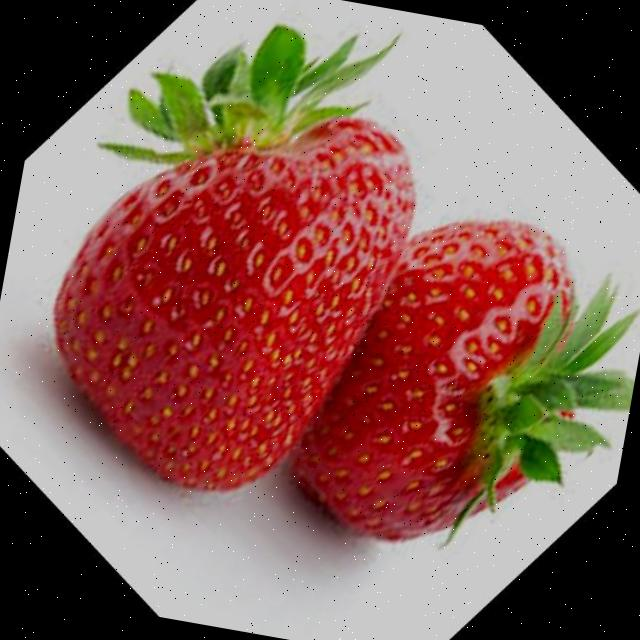strawberry: (53, 24, 413, 490), (291, 221, 635, 541)
